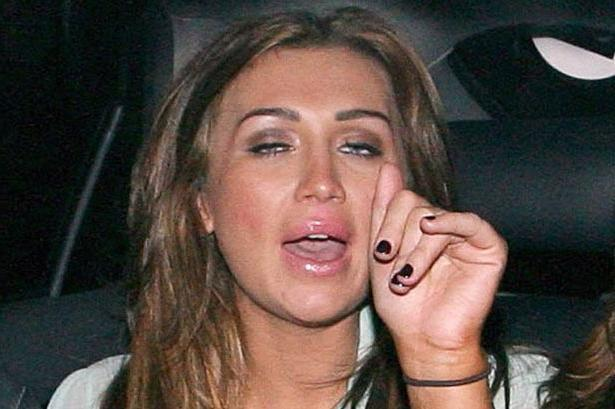Drunk: (239, 46, 391, 319)
